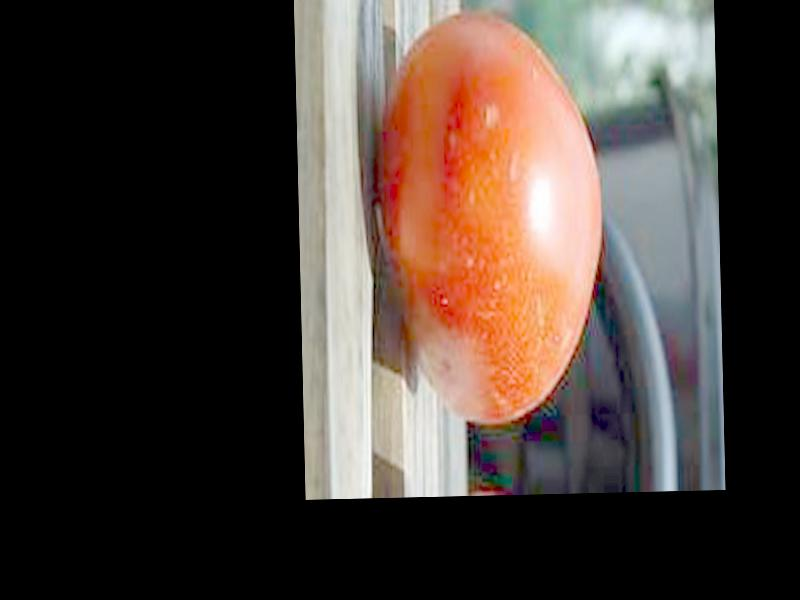Tomato: (379, 7, 607, 425)
